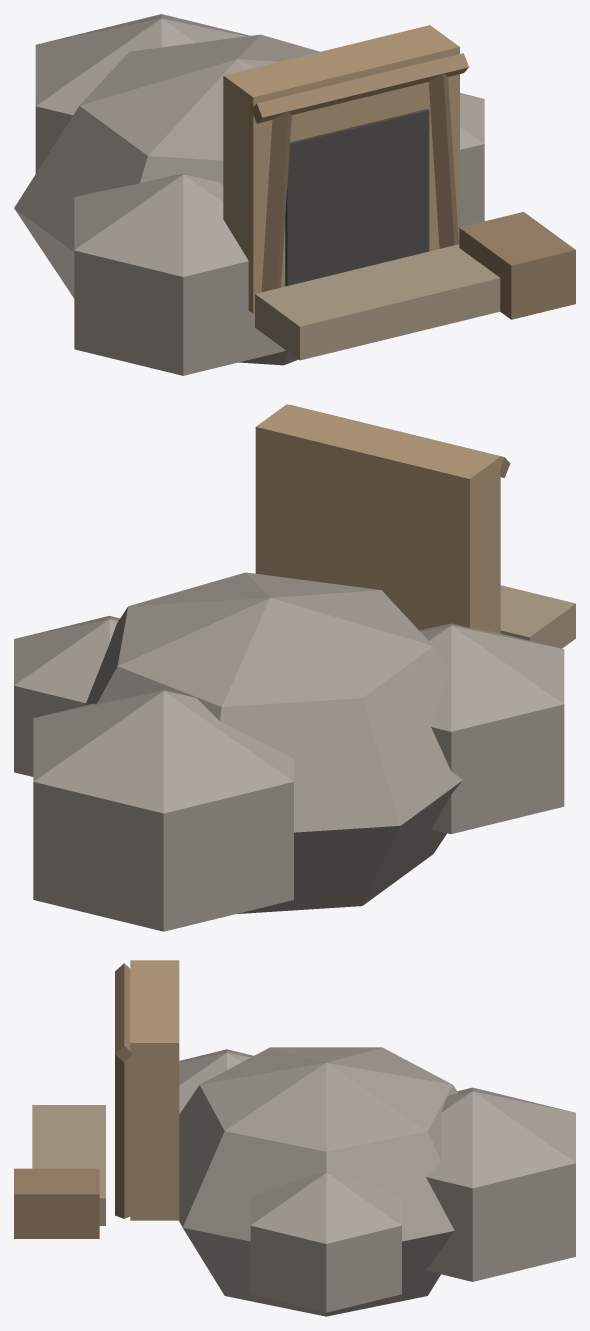
3 renders of one model, top to bottom at view 1: azimuth 30°, elevation 25°; view 2: azimuth 150°, elevation 25°; view 3: azimuth 270°, elevation 25°, orthographic. The views are drawn at different scales.
Visible parts, largest first — view 1: body; view 2: body; view 3: body.
Part boxes in pixels (x1,y1,x2,y2): body: (14,14,575,375); body: (14,404,575,931); body: (14,960,575,1316).
Bounding box in the file's own units: 7.29 × 5.3 × 9.18.
